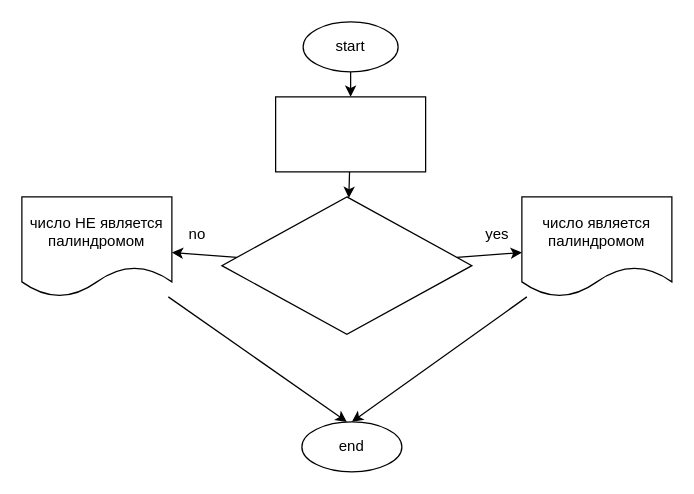
Some shapes in this 694 by 494 pixel diagram are drawn without their labels. The shapes that lost their labels are listed below. From the top down, each one's centre as x and y in pixels, then its label:
the point at 350,134: шестизначное число
the point at 346,265: index[0] == index [5] & index[1] == index [4] & index[2] == index [3] ?
